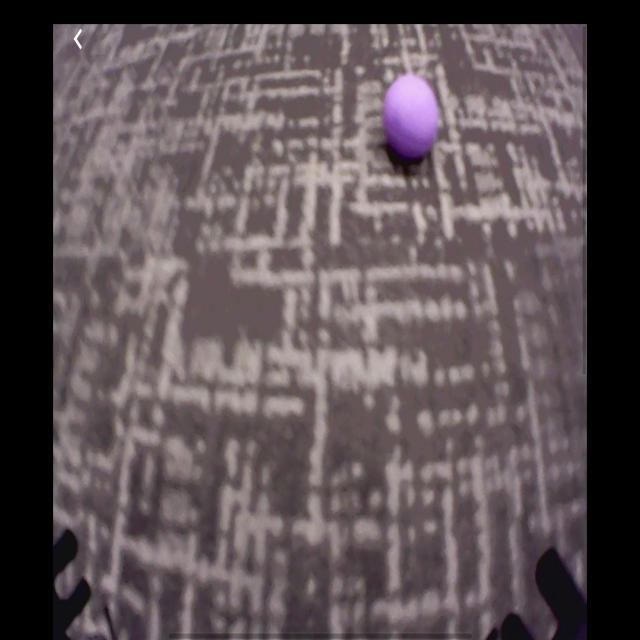ball: (383, 77, 442, 159)
